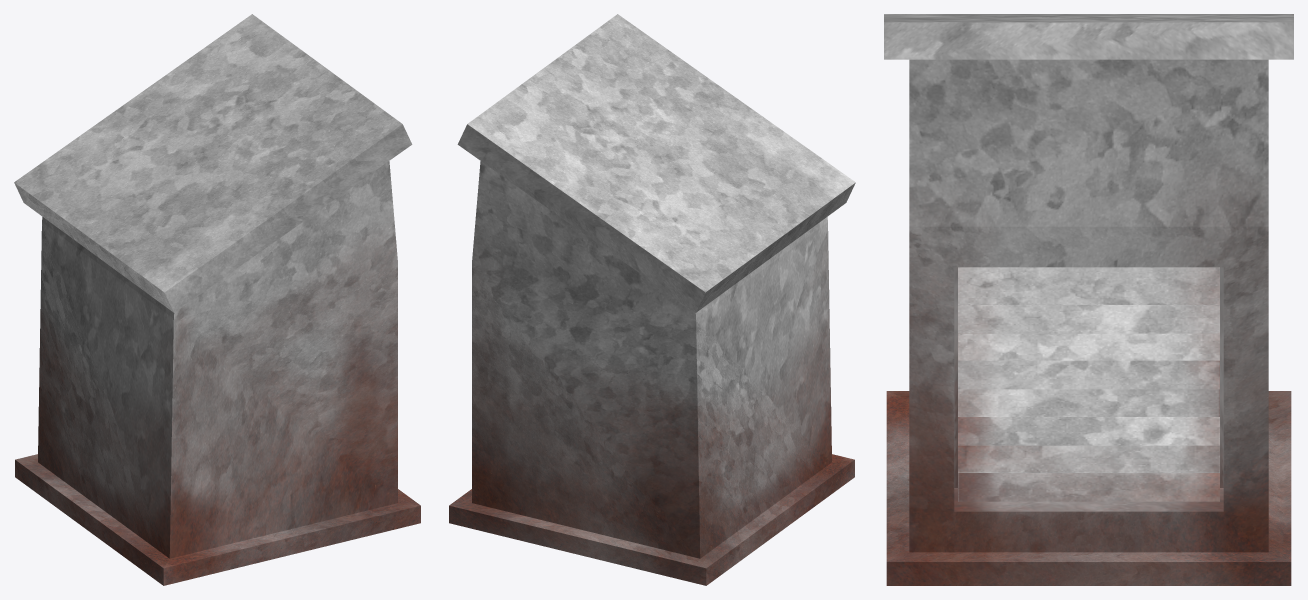
The model's file is LowPoly_Vent.fbx.
The picture shows the model from 3 angles, left to right: view 1: azimuth 30°, elevation 25°; view 2: azimuth 150°, elevation 25°; view 3: azimuth 270°, elevation 25°; orthographic projection. The views are drawn at different scales.
Visible parts, largest first — view 1: LP_Vent; view 2: LP_Vent; view 3: LP_Vent.
Boxes of the visible parts, left/top/right/bottom form: LP_Vent: left=14, top=14, right=420, bottom=585; LP_Vent: left=449, top=14, right=855, bottom=585; LP_Vent: left=884, top=14, right=1293, bottom=585.
Size of the model in its own units: 356 by 535 by 360.
Materials: 1 (1 with a texture image).
